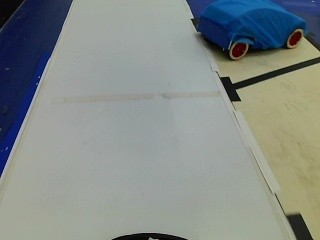car: (193, 0, 312, 58)
